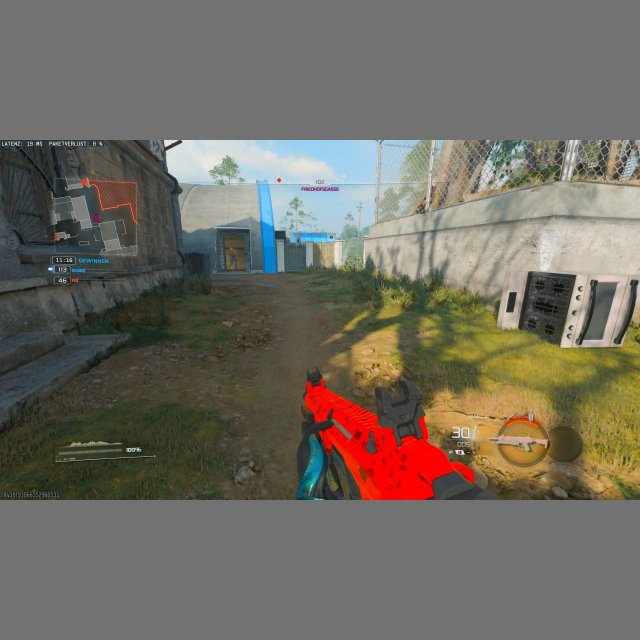player: (227, 246, 238, 269)
